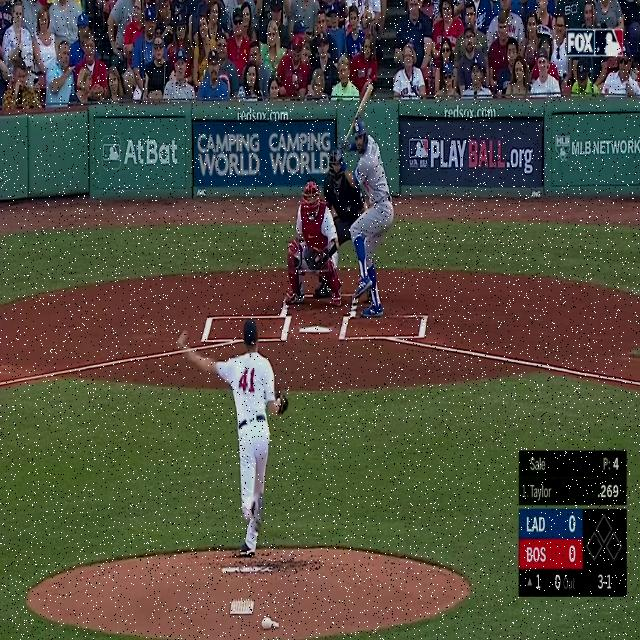baseball: (176, 328, 188, 348)
